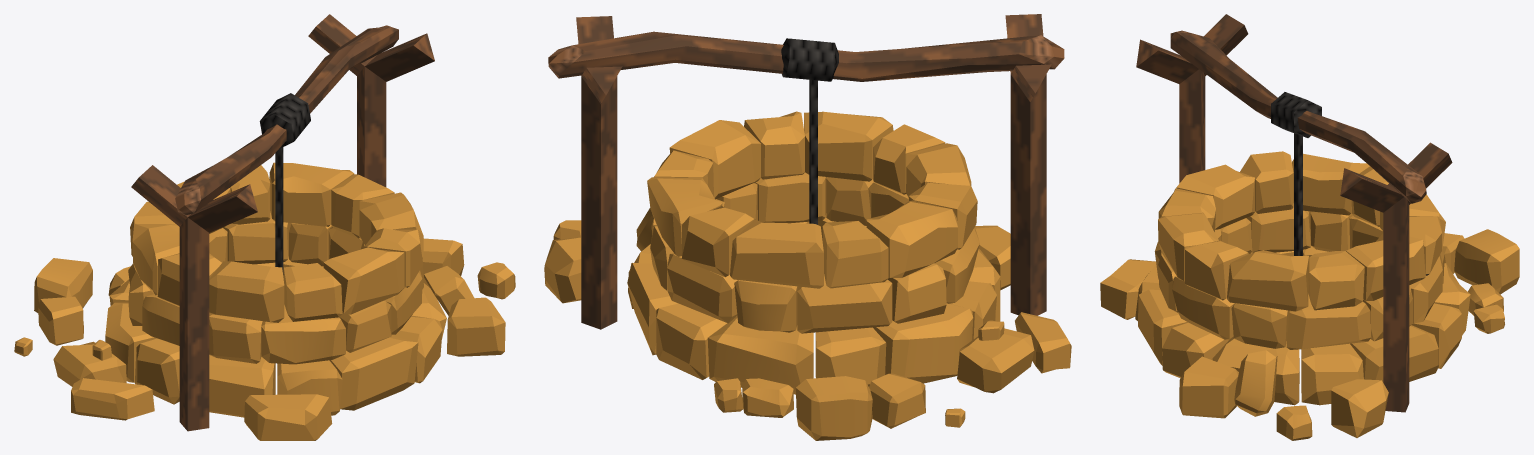
File: Well.fbx
3 views of the same model, side by side, from view 1: azimuth 30°, elevation 25°; view 2: azimuth 150°, elevation 25°; view 3: azimuth 270°, elevation 25° (orthographic). The views are drawn at different scales.
Parts seen in each view (by area): view 1: well standard; view 2: well standard; view 3: well standard.
Part boxes in pixels (box(x1,y1,x2,y2)): well standard: box(14, 14, 515, 440); well standard: box(544, 14, 1071, 440); well standard: box(1100, 14, 1519, 440).
Size of the model in its own units: 202 by 110 by 166.
